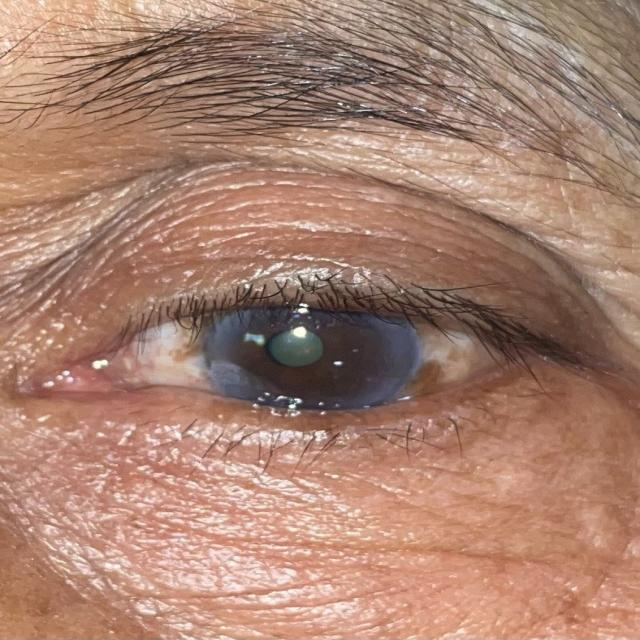Cataract: (201, 270, 418, 423)
